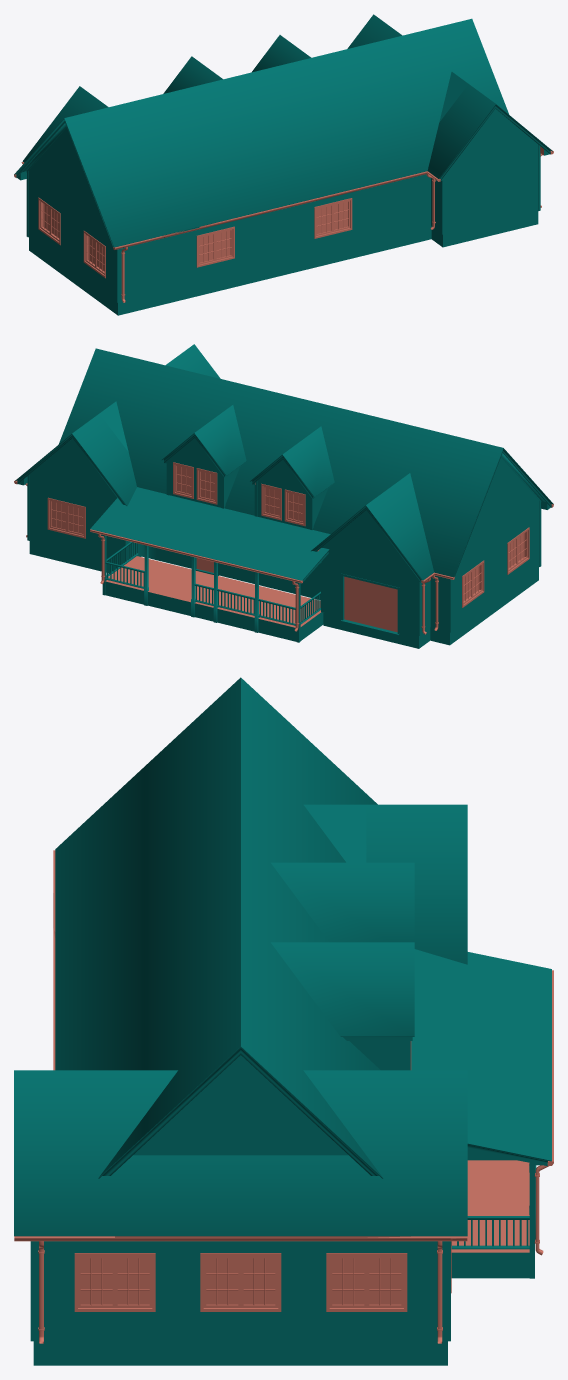
Rendered from HouseB.fbx.
The picture shows the model from 3 angles, top to bottom: view 1: azimuth 30°, elevation 25°; view 2: azimuth 150°, elevation 25°; view 3: azimuth 270°, elevation 25°; orthographic projection. The views are drawn at different scales.
Parts seen in each view (by area): view 1: HouseB_LOD0; view 2: HouseB_LOD0; view 3: HouseB_LOD0.
Part boxes in pixels (x1=…): HouseB_LOD0: x1=14, y1=14, x2=553, y2=315; HouseB_LOD0: x1=14, y1=344, x2=553, y2=648; HouseB_LOD0: x1=14, y1=677, x2=553, y2=1365.
Size of what is drawn, in the model's own units: 2188 by 816 by 1288.
